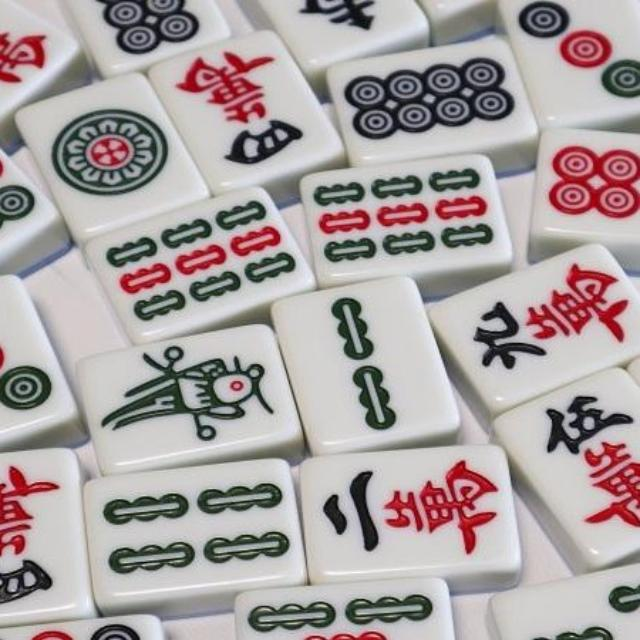b1: (88, 339, 280, 453)
b2: (295, 285, 437, 441)
b4: (92, 469, 296, 586)
b9: (103, 192, 297, 334), (311, 164, 499, 272)
c2: (313, 450, 512, 572)
c4: (166, 42, 314, 172)
c5: (512, 383, 640, 559)
c9: (444, 252, 638, 380)
d1: (38, 84, 185, 226)
d3: (513, 0, 639, 120)
d8: (338, 46, 524, 150)
